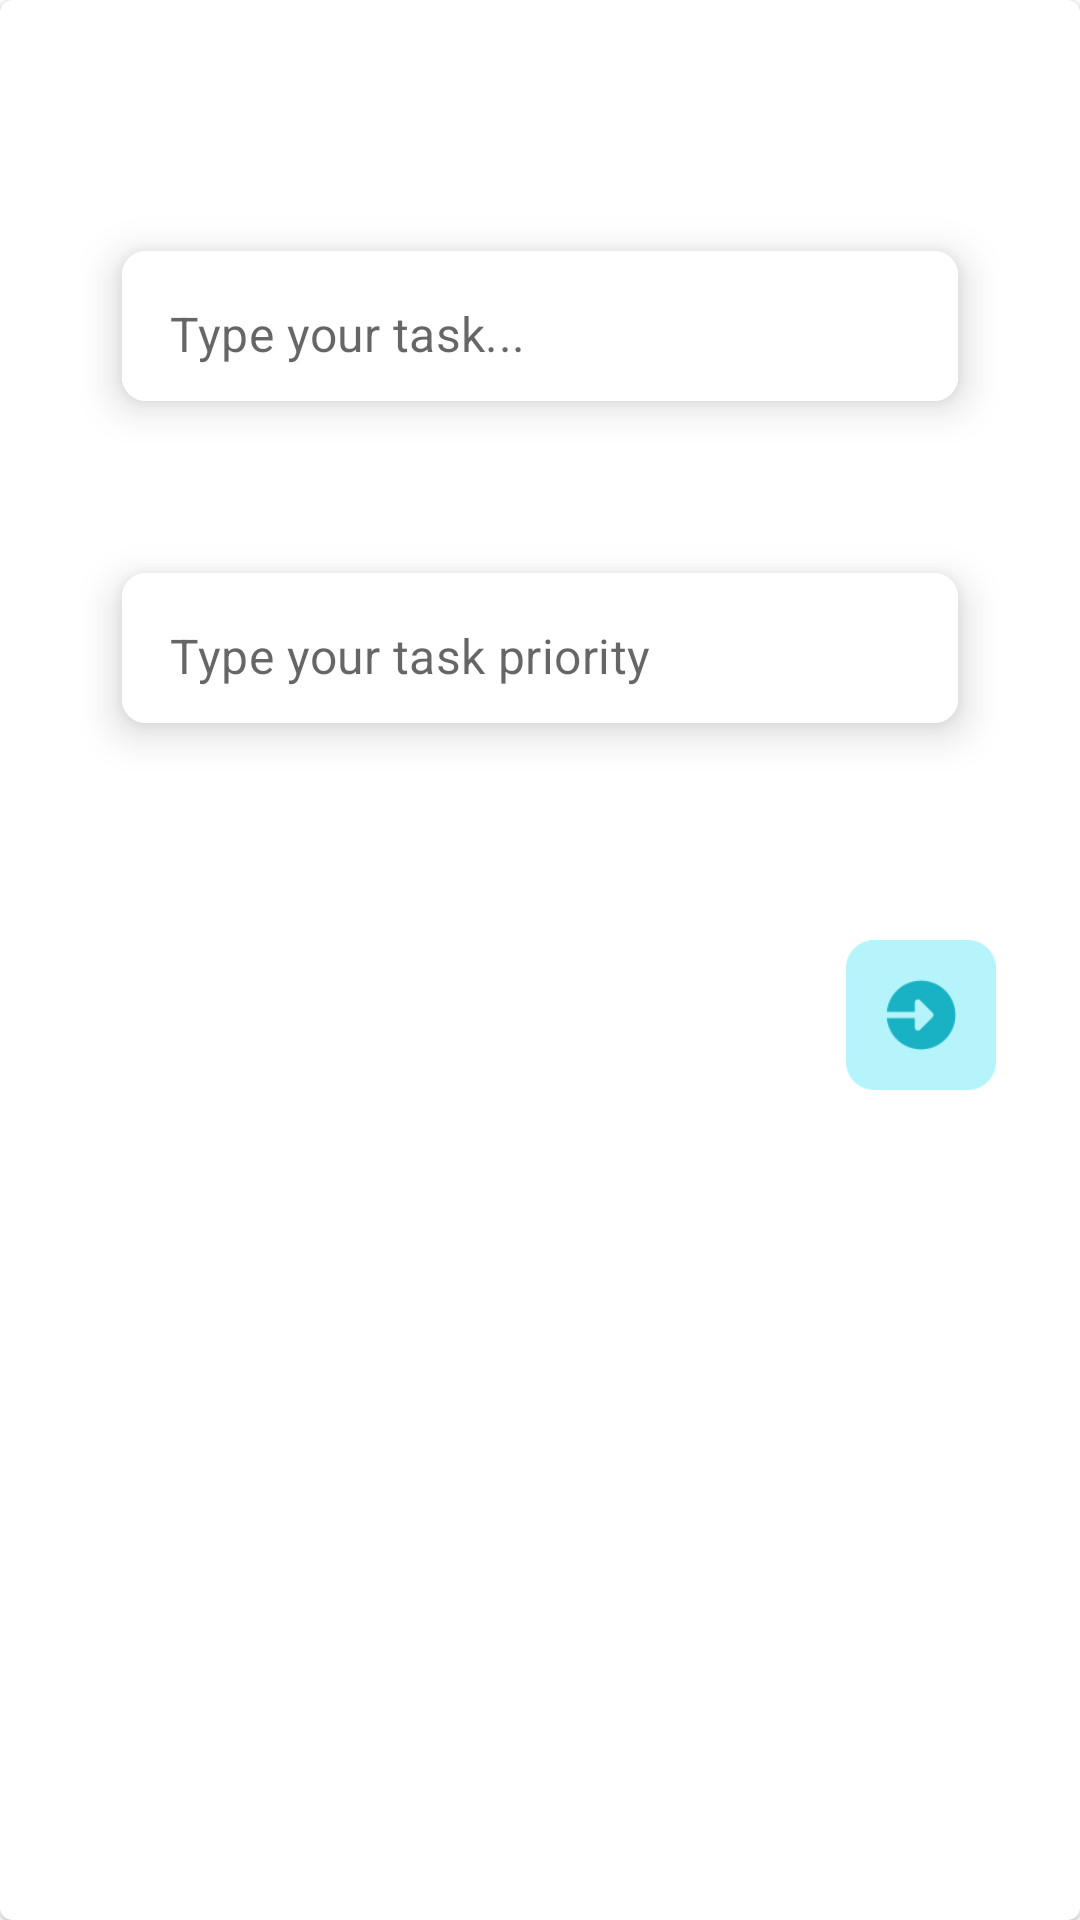

Screen size 1080x1920. Icon name, then its center in pixels as (x=x, y=y):
ent: (x=921, y=1015)
